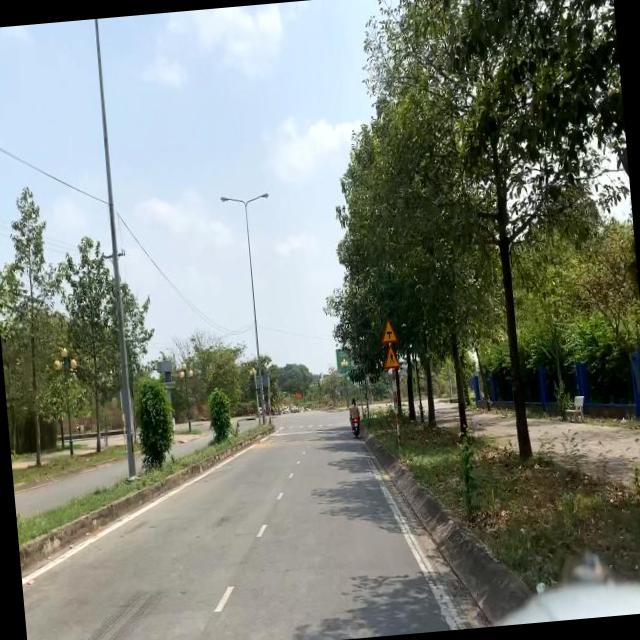W-205d: (378, 318, 396, 344)
W-224: (378, 344, 402, 368)
